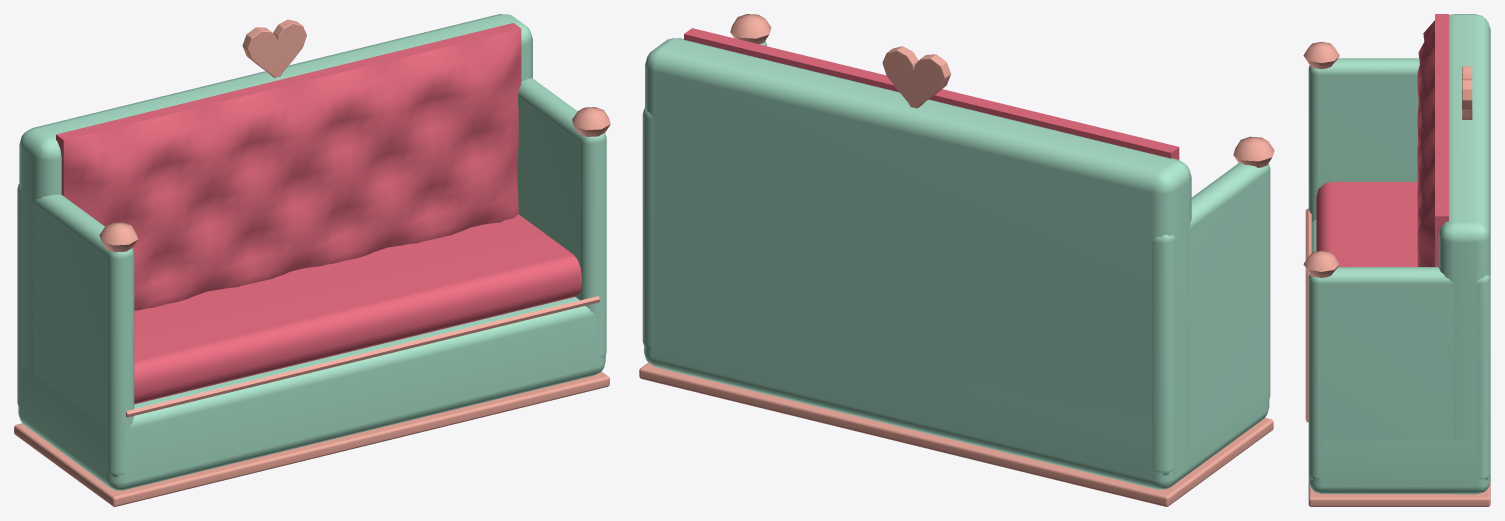
Rendered from booth_sofa.glb.
3 renders of one model, left to right at view 1: azimuth 30°, elevation 25°; view 2: azimuth 150°, elevation 25°; view 3: azimuth 270°, elevation 25°, orthographic. The views are drawn at different scales.
Visible parts, largest first — view 1: booth_sofa; view 2: booth_sofa; view 3: booth_sofa.
Boxes of the visible parts, x1,y1,x2,y2 form: booth_sofa: (14, 14, 610, 506); booth_sofa: (639, 14, 1274, 506); booth_sofa: (1303, 14, 1490, 506).
Size of the model in its own units: 2.04 by 1.38 by 0.72.
